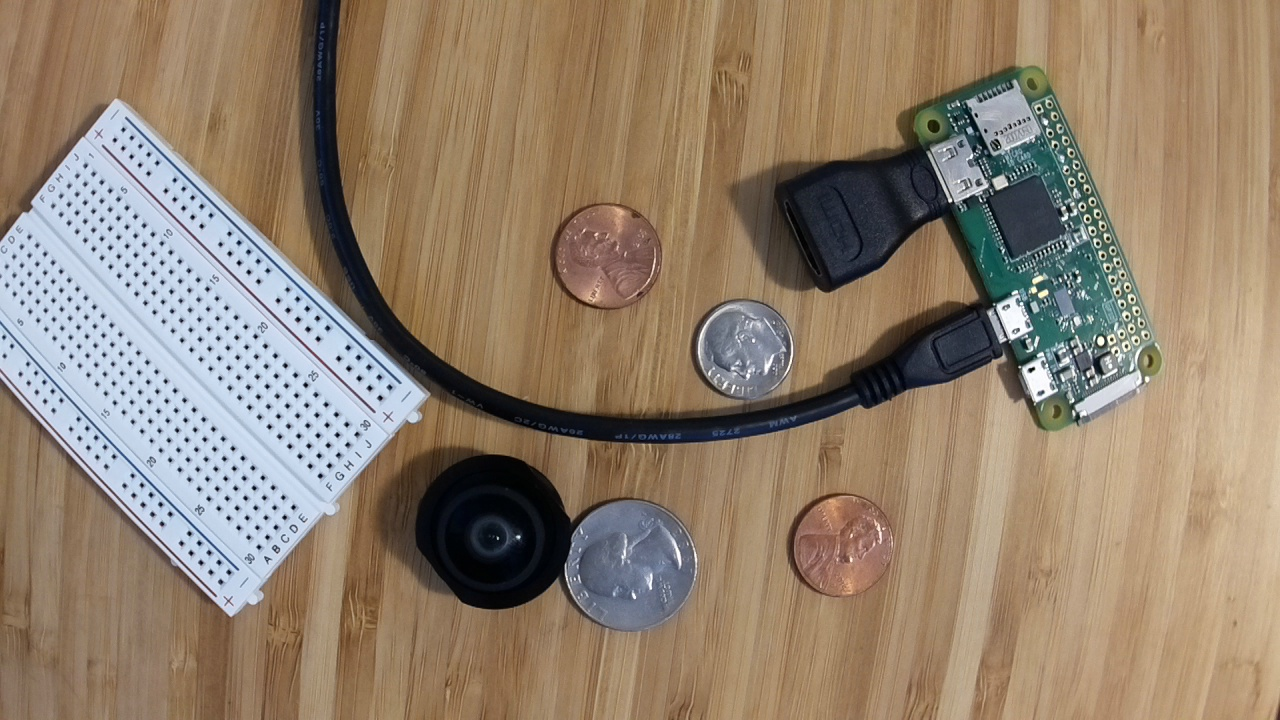dime: (692, 296, 794, 402)
penny: (548, 200, 662, 310), (788, 490, 896, 598)
quarter: (559, 496, 699, 632)
